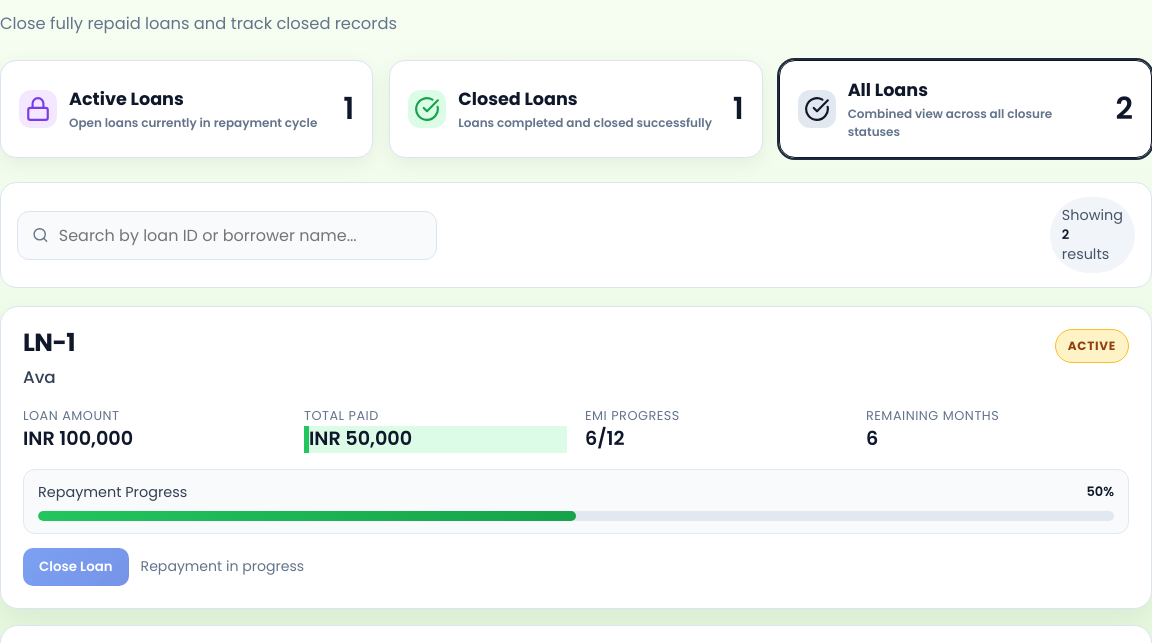
Test: LoanClosure › toggles status card filter
Check: the text "LN-1" is shown, box top-left (23, 329), bottom-right (75, 358)
Click the button "Closed Loans" at (576, 109), box top-left (389, 60), bottom-right (763, 158)
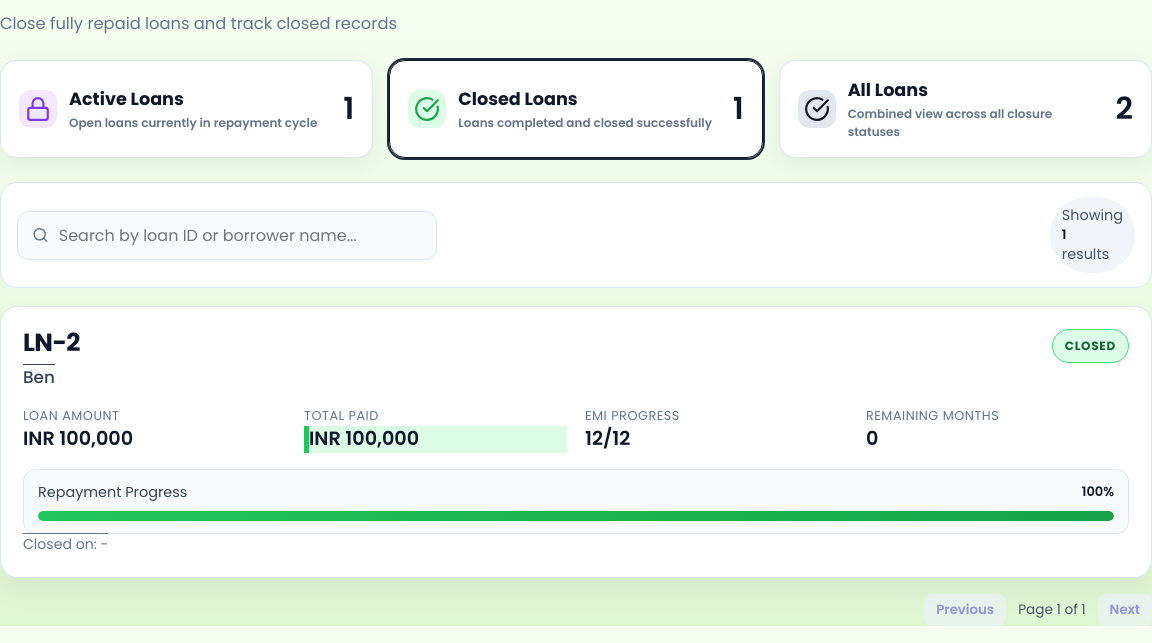
Check: the text "LN-2" is shown, box top-left (23, 329), bottom-right (80, 358)
Check: the text "LN-1" is gone
Click the button "Closed Loans" at (576, 109), box top-left (389, 60), bottom-right (763, 158)
(page scrolled)
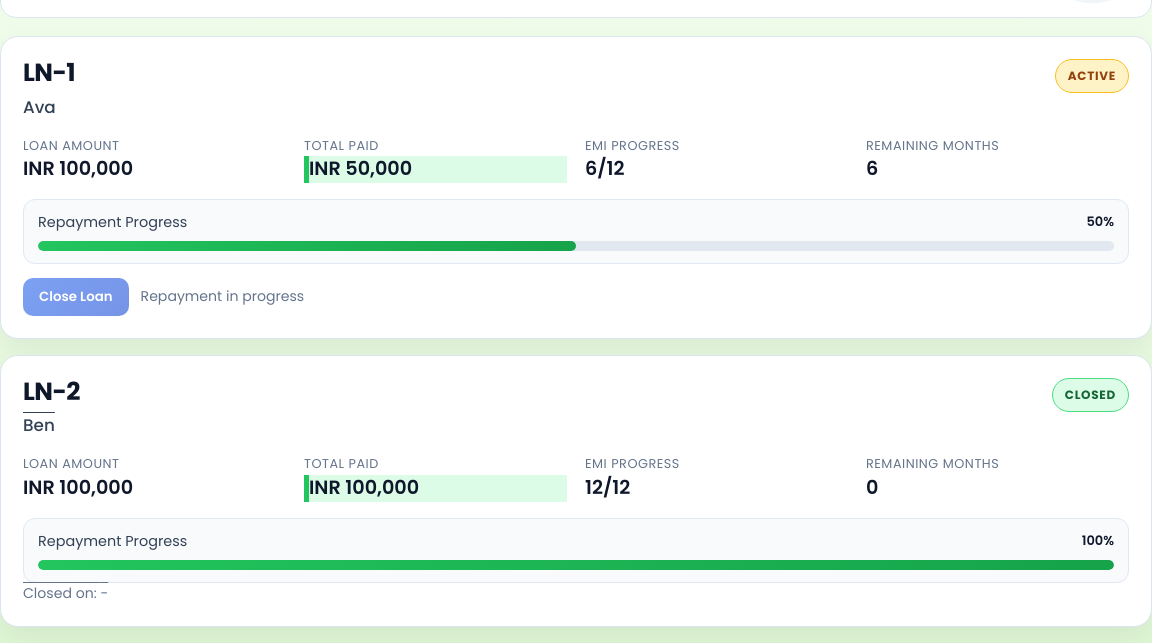
Check: the text "LN-2" is shown, box top-left (23, 378), bottom-right (80, 406)
Check: the text "LN-1" is shown, box top-left (23, 59), bottom-right (75, 88)
